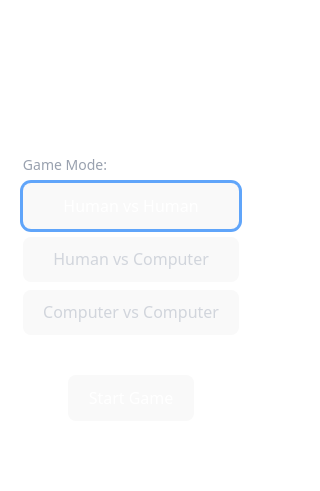
Scenario: Integration Tests › Mode Selection › shows player selector only for HvC mode
Expected: the text "Play as:" is not shown
Note: Switch to HvC mode
Click the button "Human vs Computer": (131, 259) 23,236 -> 239,282
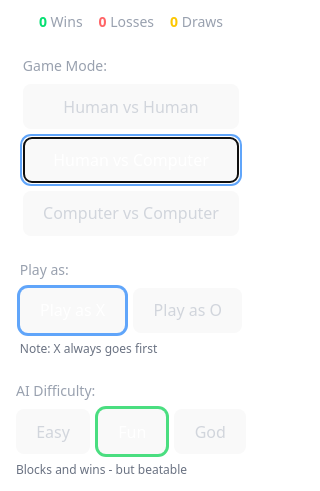
Expected: the text "Play as:" is shown, 20,260 -> 69,279
Note: Switch to CvC mode - no player selector
Click the button "Computer vs Computer": (131, 213) 23,190 -> 239,236
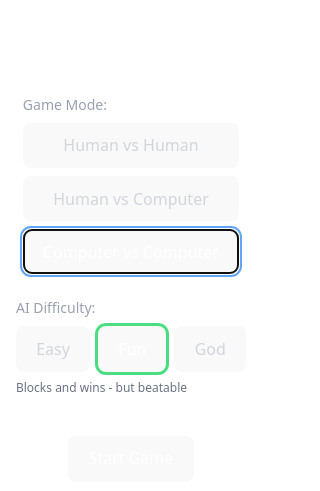
Expected: the text "Play as:" is gone
